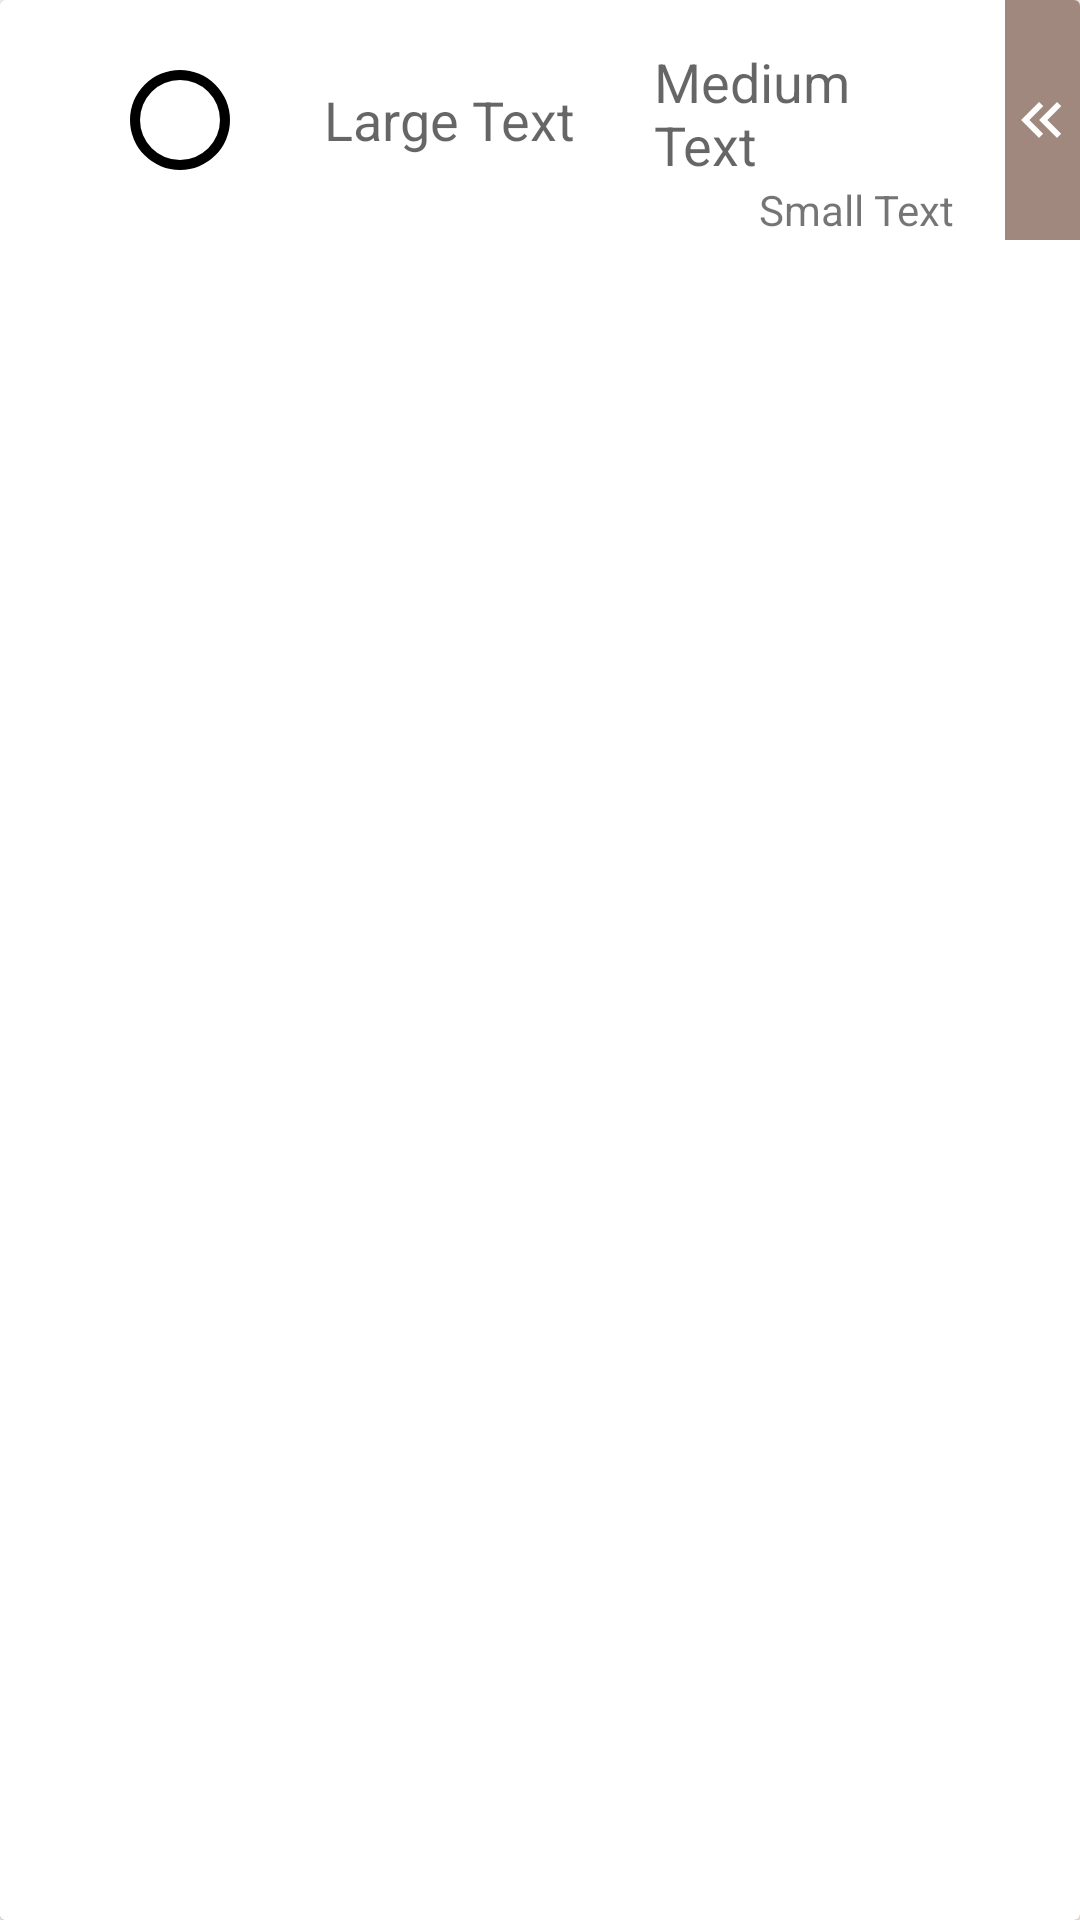

Named icons in this screenshot (1080w x 1920h) and their bounding boxes, (x1, y1, x2, y2):
checkbox blank: (130, 70, 230, 170)
chevron double left: (1021, 102, 1061, 138)
